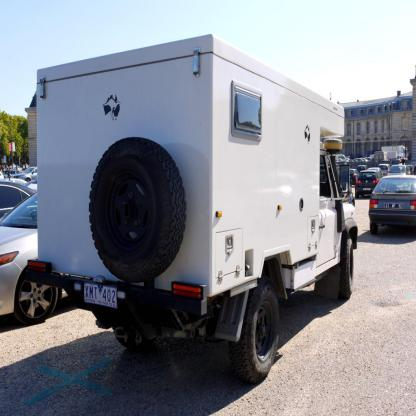Car: (0, 192, 69, 325), (369, 177, 415, 235)
Truck: (25, 34, 358, 384)
